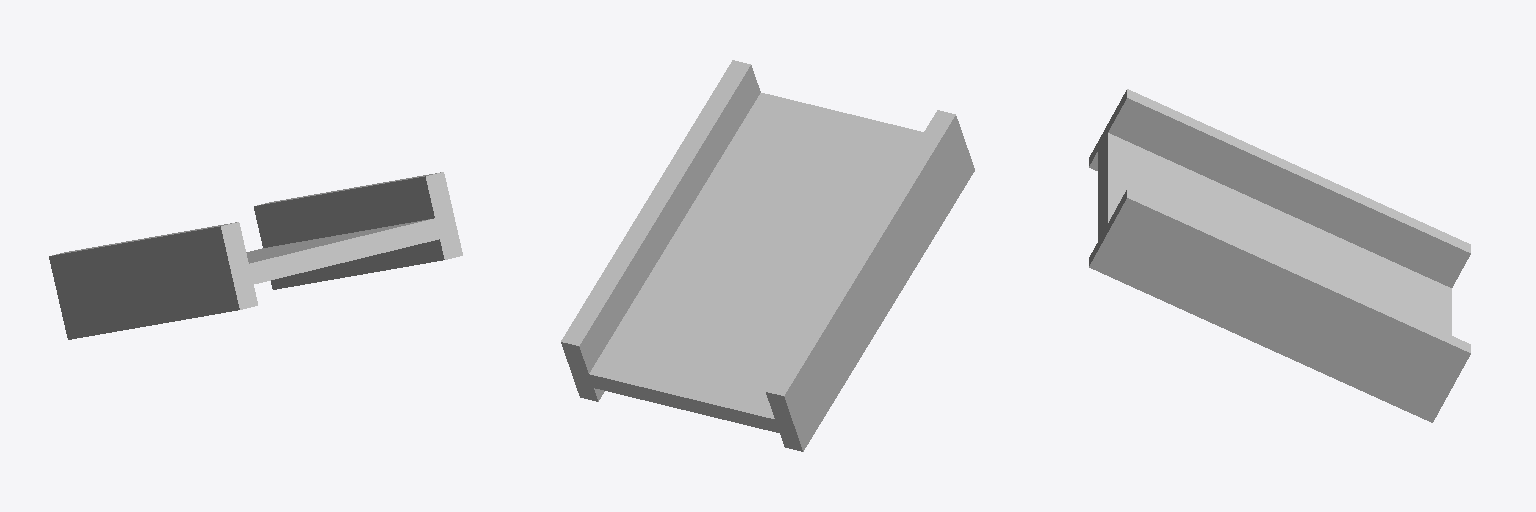
The model's file is sluice_box_bottom.obj.
The picture shows the model from 3 angles: view 1: azimuth 30°, elevation 25°; view 2: azimuth 150°, elevation 25°; view 3: azimuth 270°, elevation 25°; orthographic projection.
Parts seen in each view (by area): view 1: rail, ramp; view 2: ramp, rail; view 3: rail, ramp.
Boxes of the visible parts, <box> form: rail: <box>49,172,462,339</box>; ramp: <box>246,218,439,283</box>; ramp: <box>589,93,923,432</box>; rail: <box>561,60,974,451</box>; rail: <box>1089,89,1470,422</box>; ramp: <box>1098,133,1451,335</box>.
Bounding box in the file's own units: 0.75 × 0.7236 × 1.11.